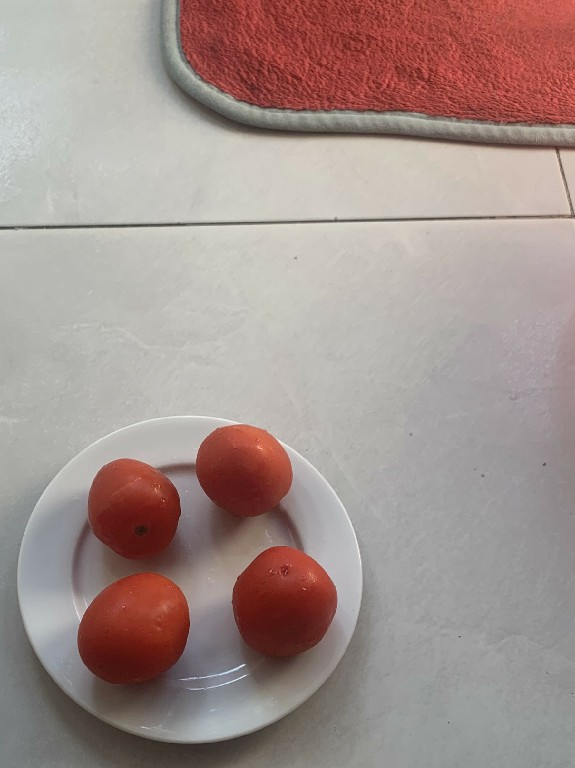OK: (70, 572, 191, 688), (226, 542, 336, 659), (190, 419, 297, 523), (87, 453, 184, 561)
